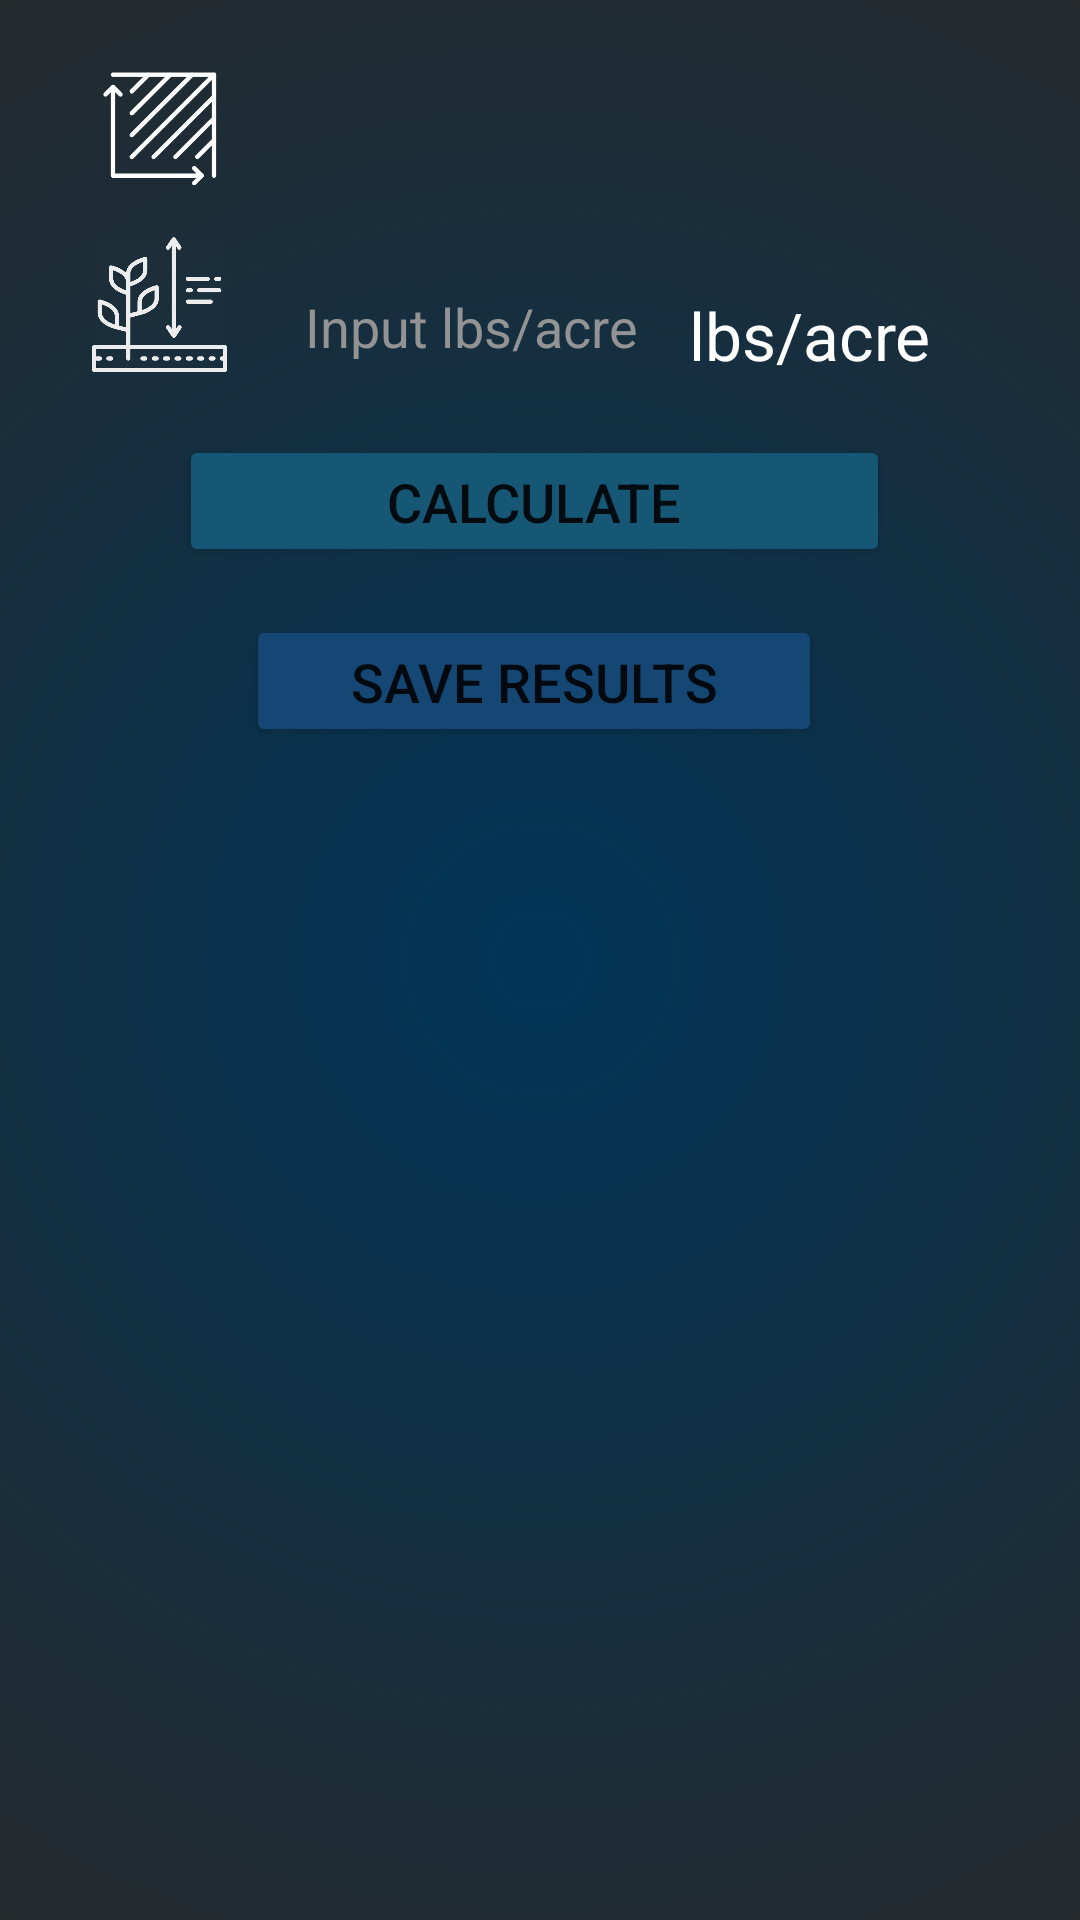

Locate icon controls on the screen. Image size 1080*1920, boxes as (x1, y1, x2, y2).
acres: (103, 72, 217, 185)
seedling: (92, 237, 227, 372)
